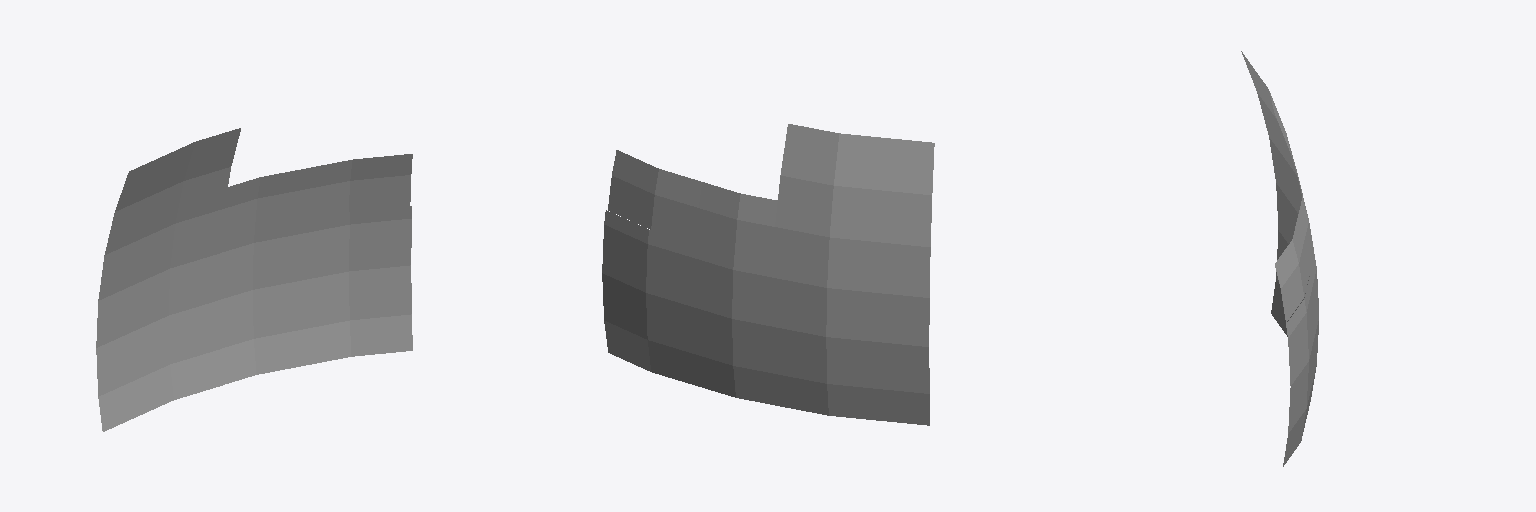
File: Tower2_Mesh.obj
The picture shows the model from 3 angles: view 1: azimuth 30°, elevation 25°; view 2: azimuth 150°, elevation 25°; view 3: azimuth 270°, elevation 25°; orthographic projection.
Visible parts, largest first — view 1: 12.0.921.0; view 2: 12.0.921.0; view 3: 12.0.921.0.
Boxes of the visible parts, <box> form: 12.0.921.0: <box>96,128,412,431</box>; 12.0.921.0: <box>602,124,934,425</box>; 12.0.921.0: <box>1241,51,1318,466</box>.
Bounding box in the file's own units: 5.83 × 4.67 × 1.24.